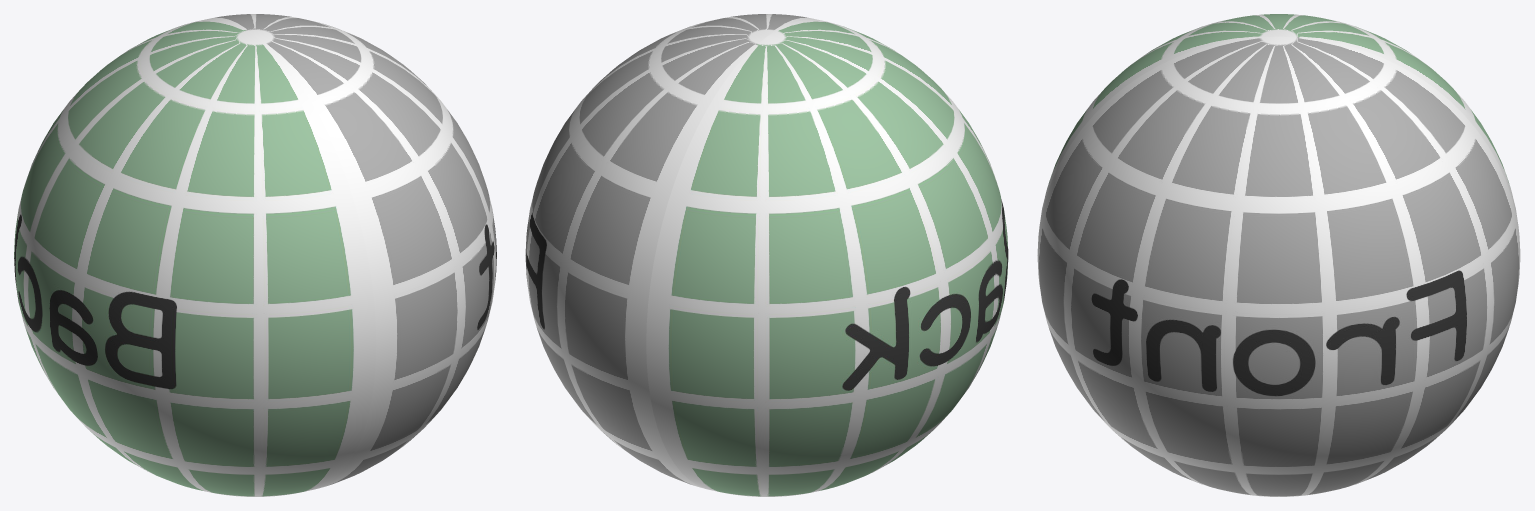
3 views of the same model, side by side, from view 1: azimuth 30°, elevation 25°; view 2: azimuth 150°, elevation 25°; view 3: azimuth 270°, elevation 25° (orthographic).
Visible parts, largest first — view 1: Sphere2_bk, Sphere2_fr; view 2: Sphere2_bk, Sphere2_fr; view 3: Sphere2_fr, Sphere2_bk.
Boxes of the visible parts, left/top/right/bottom form: Sphere2_bk: left=14, top=19, right=376, bottom=496; Sphere2_fr: left=205, top=14, right=496, bottom=488; Sphere2_bk: left=646, top=19, right=1008, bottom=496; Sphere2_fr: left=525, top=14, right=816, bottom=488; Sphere2_fr: left=1037, top=36, right=1520, bottom=496; Sphere2_bk: left=1038, top=14, right=1519, bottom=233.
Bounding box in the file's own units: 55.37 × 55.37 × 55.37.
